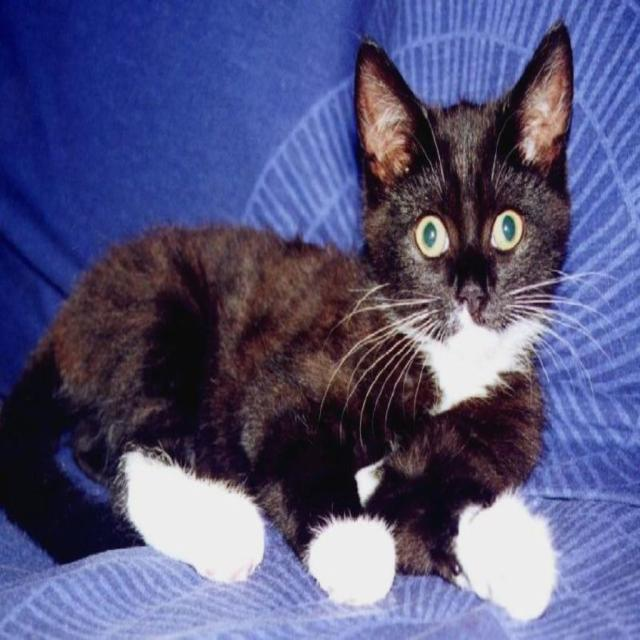Cat: (0, 16, 618, 627)
